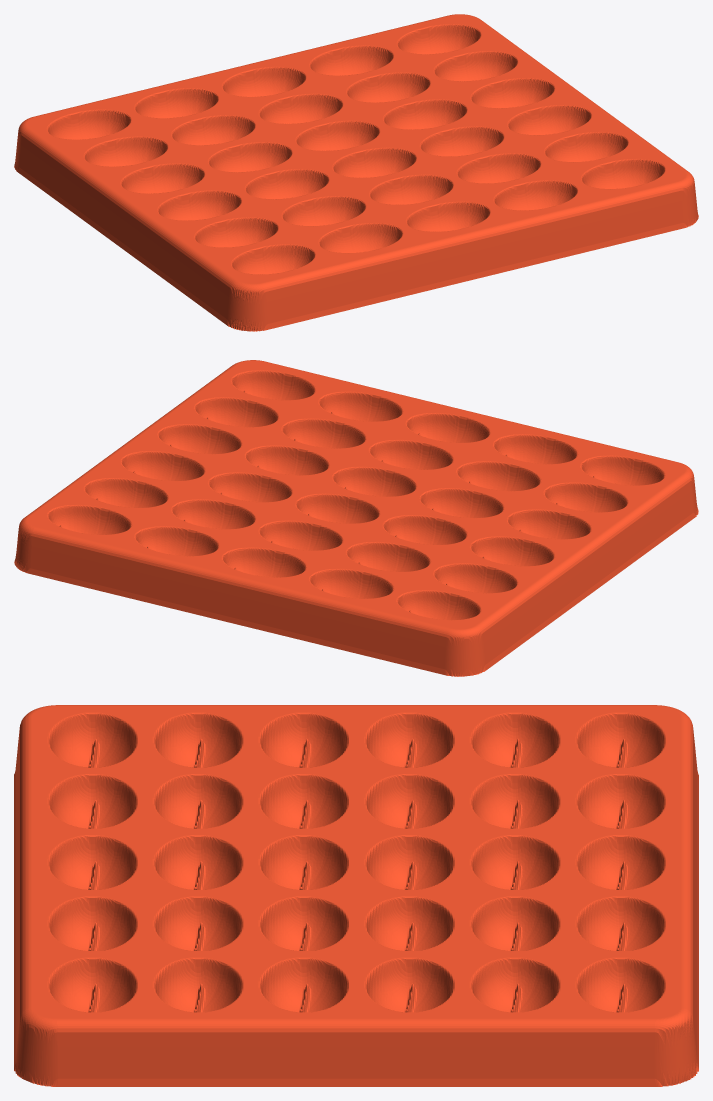
Rendered from mold.glb.
The picture shows the model from 3 angles, top to bottom: view 1: azimuth 30°, elevation 25°; view 2: azimuth 150°, elevation 25°; view 3: azimuth 270°, elevation 25°; orthographic projection. The views are drawn at different scales.
Visible parts, largest first — view 1: geometry_0; view 2: geometry_0; view 3: geometry_0.
Boxes of the visible parts, bbox=[...] form: geometry_0: bbox=[14, 14, 698, 331]; geometry_0: bbox=[14, 360, 698, 676]; geometry_0: bbox=[14, 705, 698, 1086].
Size of the model in its own units: 0.1581 by 0.0136 by 0.1397.
